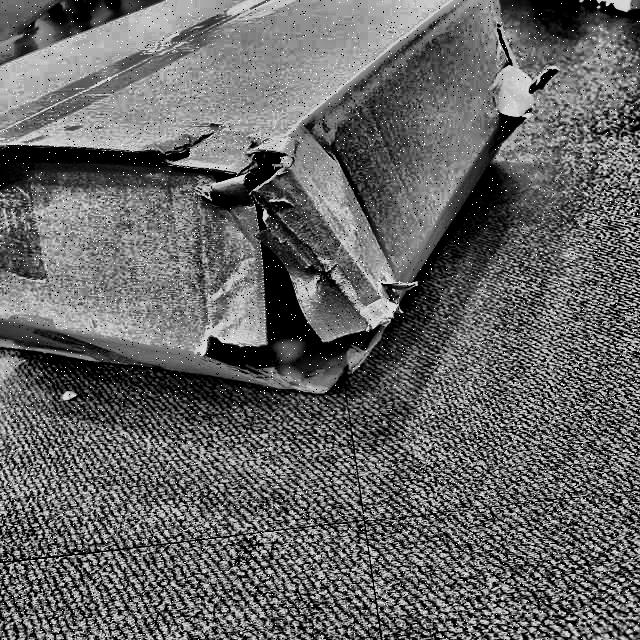box: (0, 0, 557, 432)
hole: (190, 145, 343, 389)
